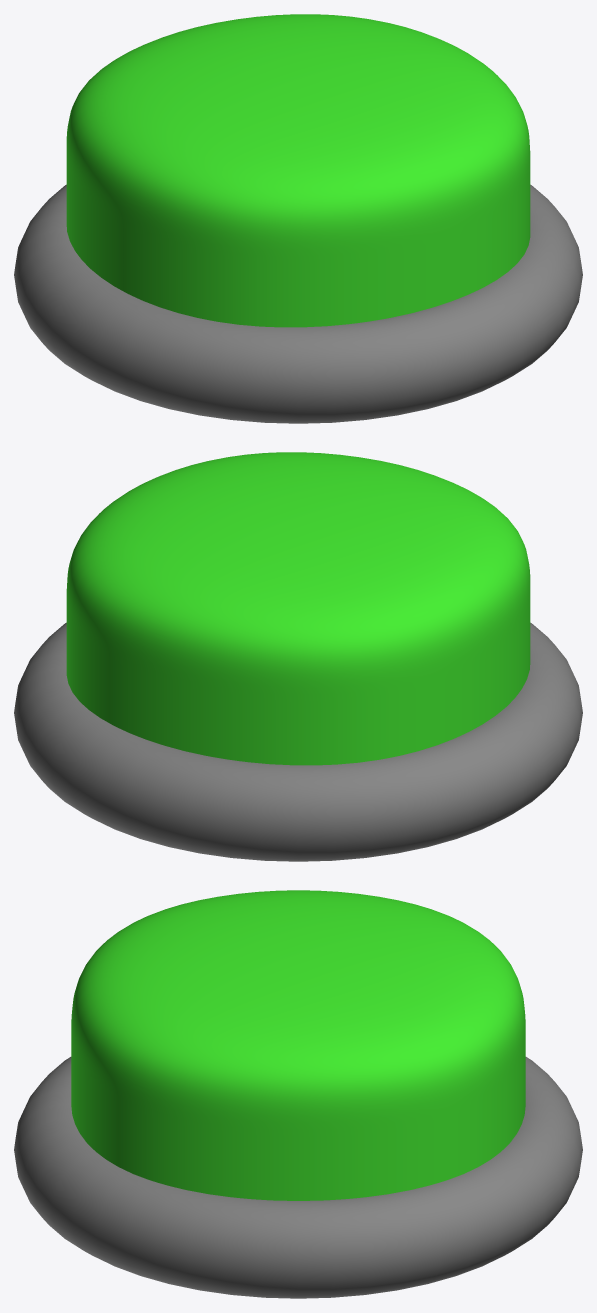
Rendered from ButtonMesh.fbx.
3 renders of one model, top to bottom at view 1: azimuth 30°, elevation 25°; view 2: azimuth 150°, elevation 25°; view 3: azimuth 270°, elevation 25°, orthographic.
Parts seen in each view (by area): view 1: Button, BaseRound; view 2: Button, BaseRound; view 3: Button, BaseRound.
Part boxes in pixels (box(x1,y1,x2,y2)): Button: box(66, 14, 530, 327); BaseRound: box(14, 184, 582, 423); Button: box(66, 452, 530, 765); BaseRound: box(14, 622, 582, 861); Button: box(71, 890, 525, 1200); BaseRound: box(14, 1057, 582, 1298).
Size of the model in its own units: 1.15 by 0.5371 by 1.15.
